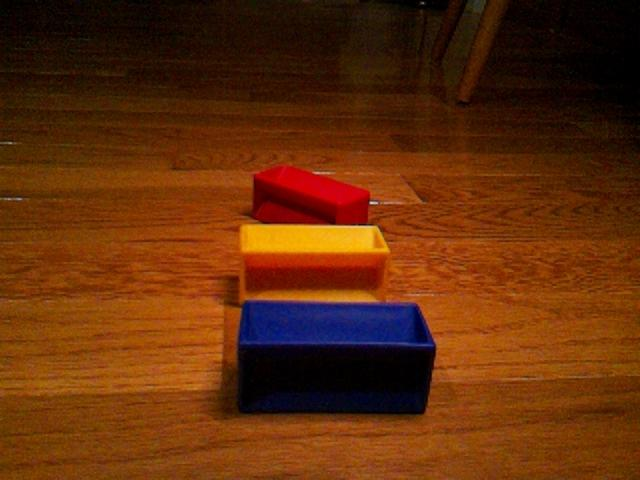blue: (236, 298, 437, 416)
red: (251, 162, 372, 225)
yellow: (238, 223, 391, 303)
